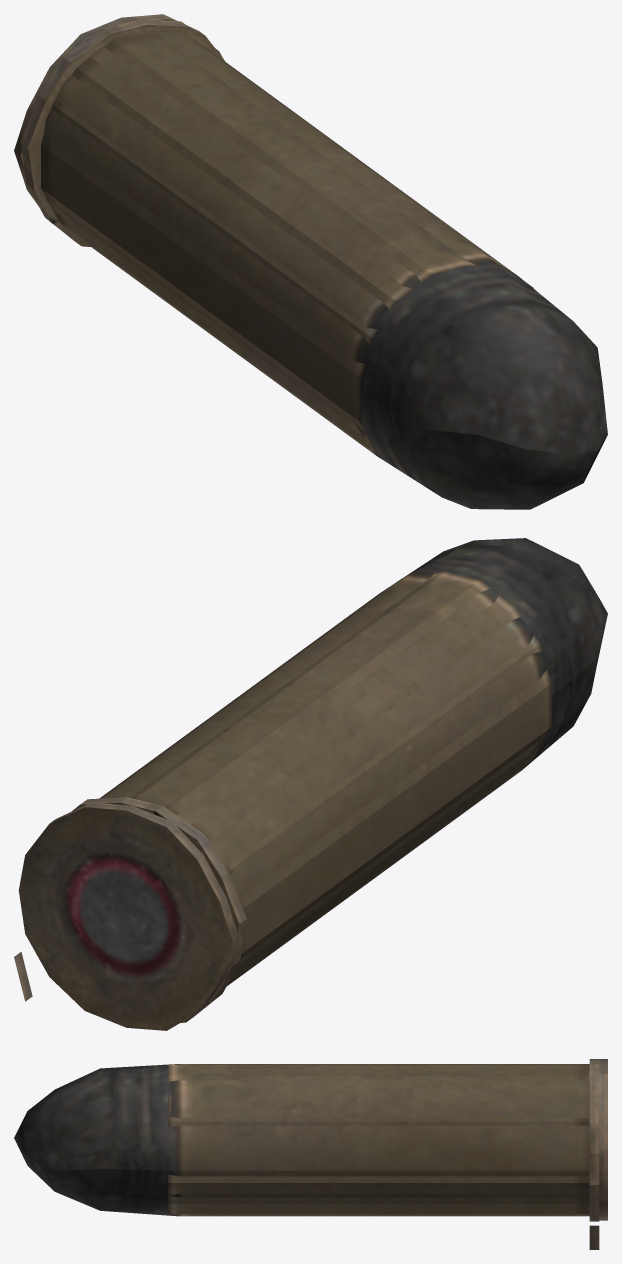
Rendered from bullet.obj.
The picture shows the model from 3 angles, top to bottom: view 1: azimuth 30°, elevation 25°; view 2: azimuth 150°, elevation 25°; view 3: azimuth 270°, elevation 25°; orthographic projection. The views are drawn at different scales.
Parts seen in each view (by area): view 1: wpn_revolver_new; view 2: wpn_revolver_new; view 3: wpn_revolver_new.
Part boxes in pixels (box(x1,y1,x2,y2)): wpn_revolver_new: box(14, 14, 607, 509); wpn_revolver_new: box(14, 538, 607, 1030); wpn_revolver_new: box(14, 1059, 607, 1249).
Bounding box in the file's own units: 0.014 × 0.0132 × 0.0482.
1 material, 1 textured.
